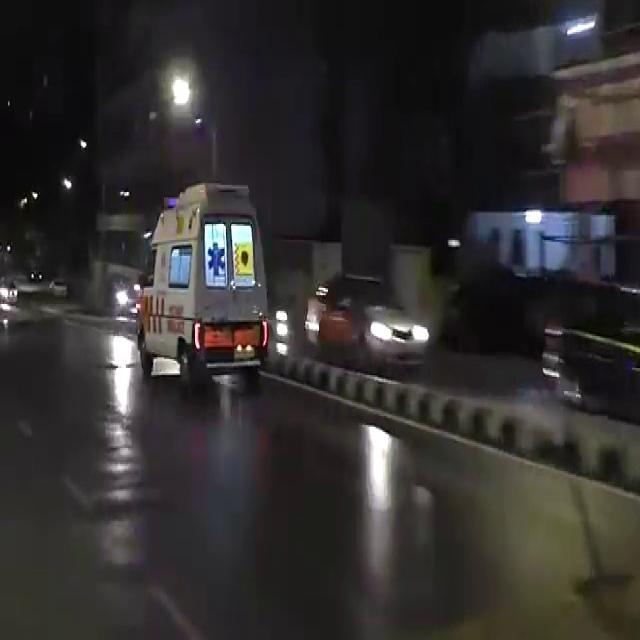ambulance: (125, 172, 293, 404)
